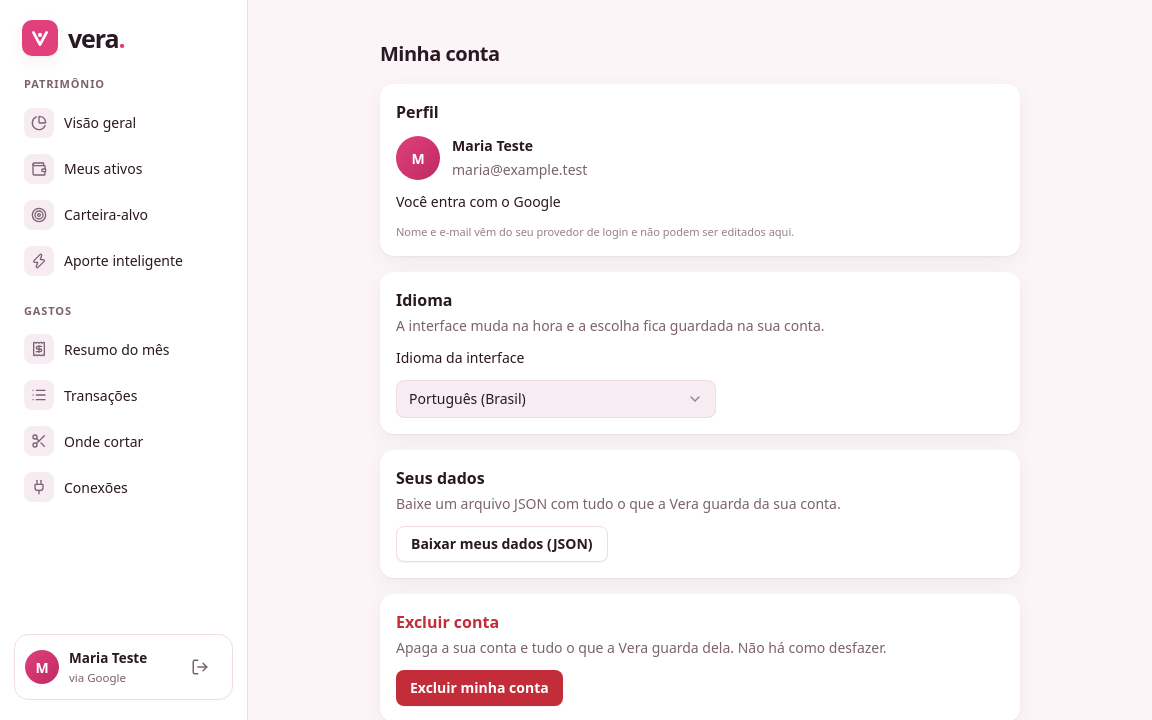
account language › reverts the selector and shows an error when saving fails
Expected: the heading "Minha conta" is shown, [380,40,500,67]
Click the dropdown named "Idioma da interface" at (467, 398), box [396,380,716,418]
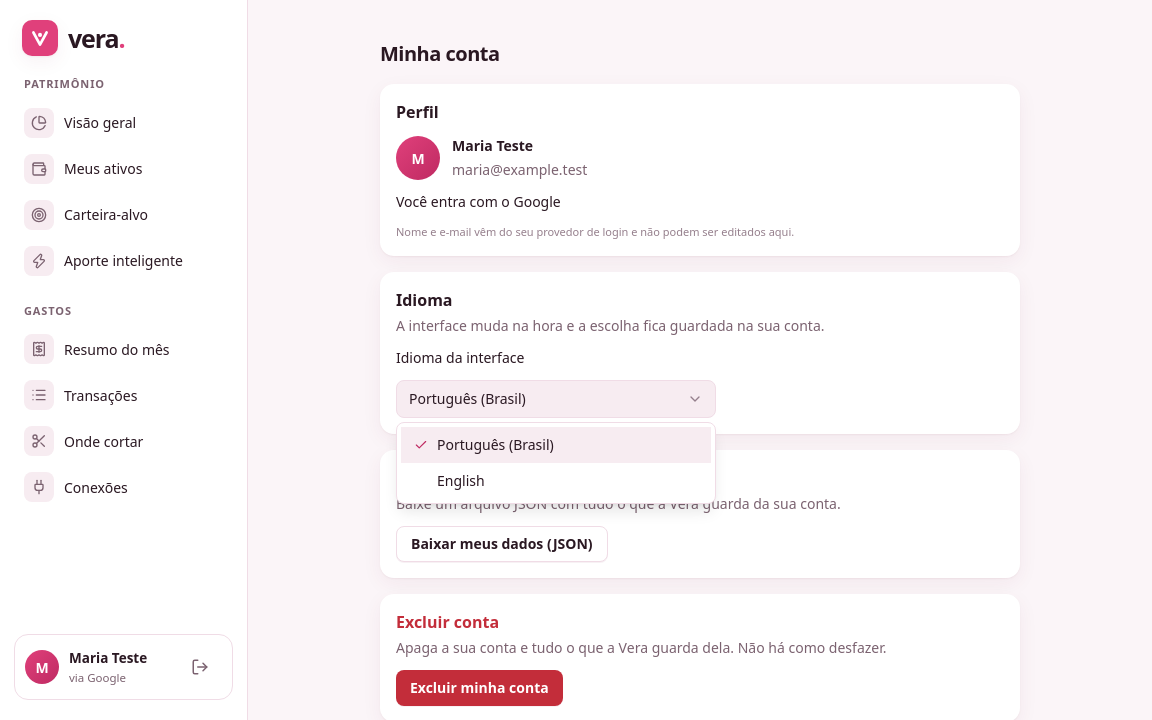
Click the option "English" at (461, 480), box [437,471,485,490]
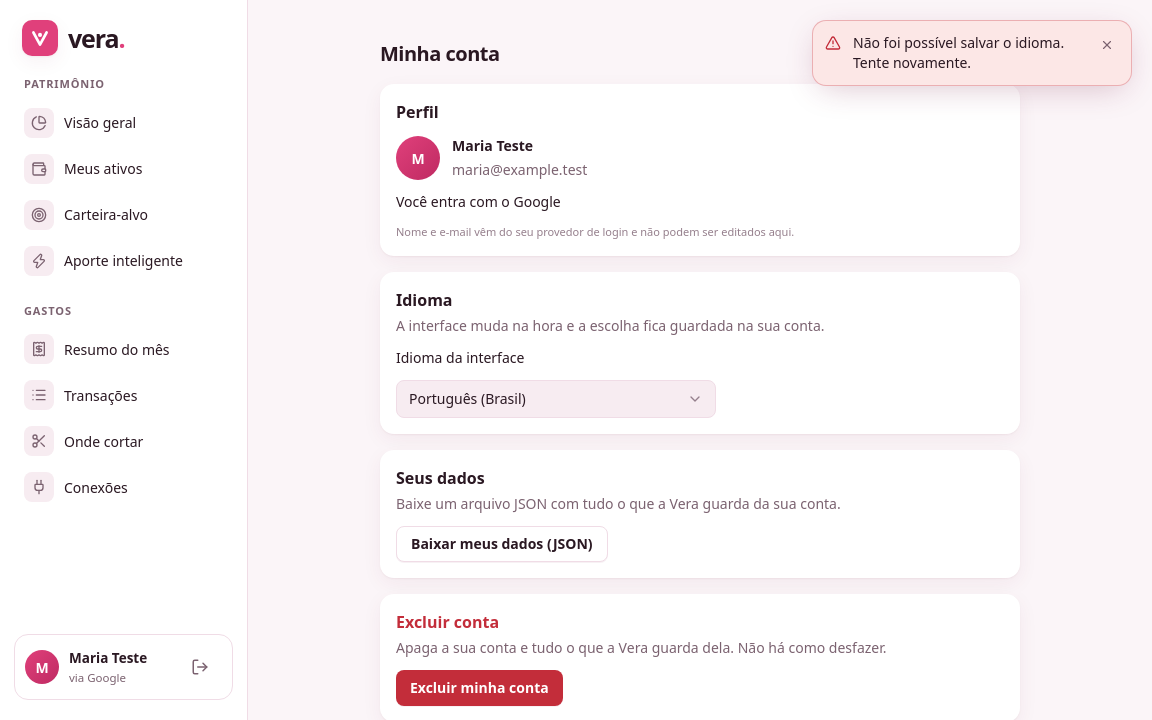
Expected: the dropdown named "Idioma da interface" reads "Português (Brasil)", [396,380,716,418]
Expected: the text "Não foi possível salvar o idioma. Tente novamente." is shown, [853,33,1083,73]
